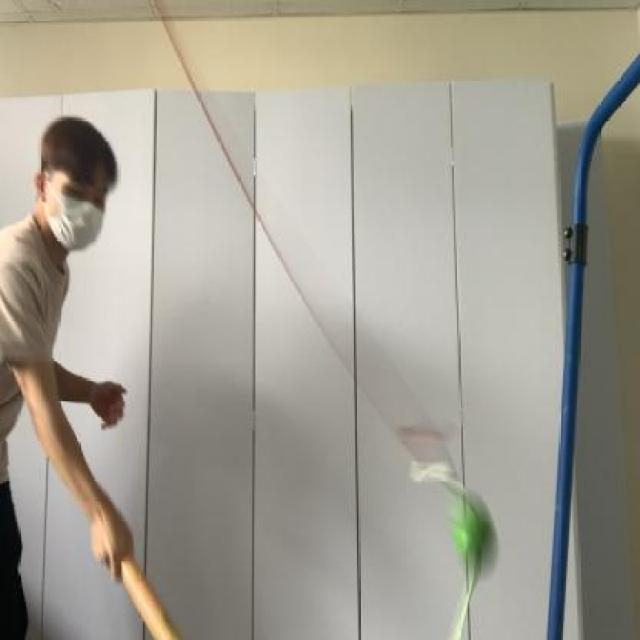baseball: (444, 486, 502, 602)
